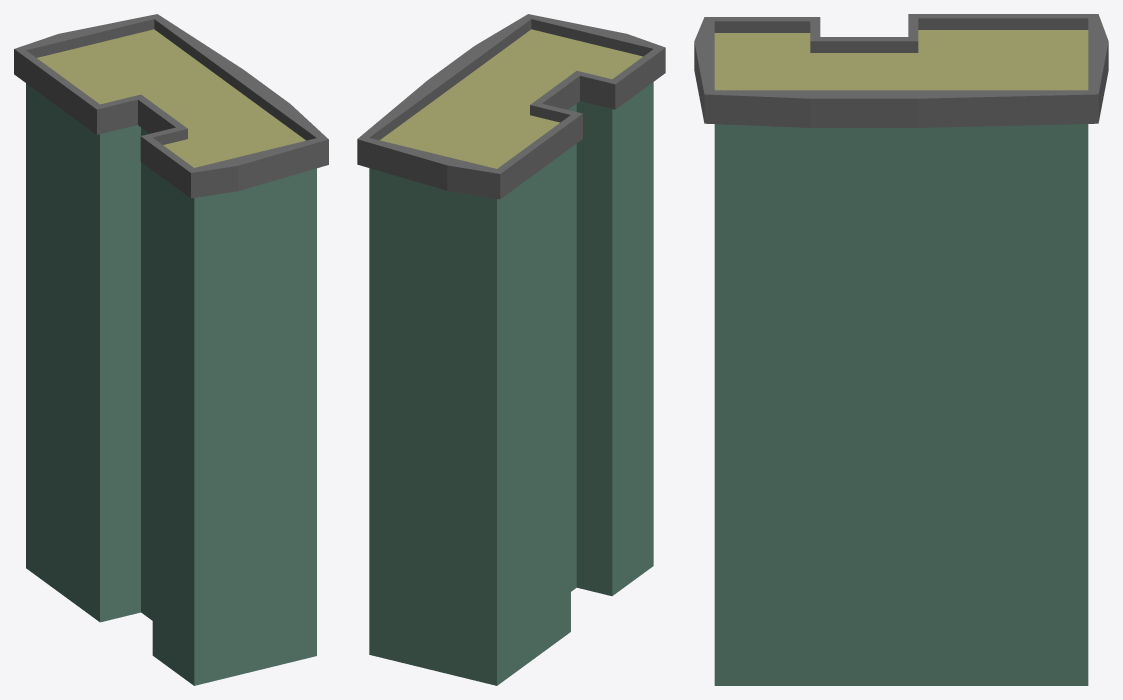
The model's file is building.fbx.
3 views of the same model, side by side, from view 1: azimuth 30°, elevation 25°; view 2: azimuth 150°, elevation 25°; view 3: azimuth 270°, elevation 25° (orthographic). The views are drawn at different scales.
Parts seen in each view (by area): view 1: building1; view 2: building1; view 3: building1.
Boxes of the visible parts, bbox=[...] form: building1: bbox=[14, 14, 328, 685]; building1: bbox=[357, 14, 665, 685]; building1: bbox=[694, 14, 1108, 685].
Bounding box in the file's own units: 1193 × 3912 × 2465.
